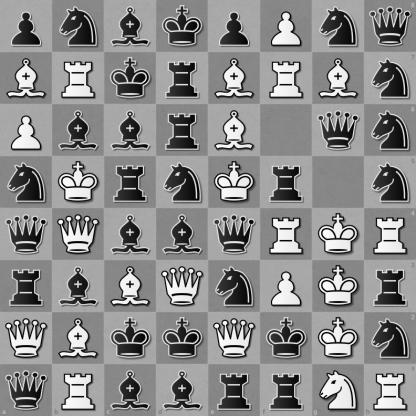B: (1, 53, 52, 104), (53, 313, 104, 364), (105, 261, 156, 312), (209, 53, 260, 104), (209, 105, 260, 156), (313, 53, 364, 104)
K: (53, 157, 104, 208), (209, 157, 260, 208), (313, 209, 364, 260), (313, 261, 364, 312), (313, 313, 364, 364)
N: (312, 364, 364, 416)
P: (1, 105, 52, 156), (261, 1, 312, 52), (261, 261, 312, 312)
Q: (1, 313, 52, 364), (53, 209, 104, 260), (157, 261, 208, 312), (209, 313, 260, 364)
R: (52, 364, 104, 416), (364, 364, 416, 416), (364, 209, 416, 260), (53, 53, 104, 104), (261, 53, 312, 104), (261, 209, 312, 260)
b: (156, 364, 209, 416), (104, 364, 156, 416), (53, 105, 104, 156), (53, 261, 104, 312), (105, 1, 156, 52), (105, 105, 156, 156), (105, 209, 156, 260), (157, 209, 208, 260)
board: (0, 0, 415, 415)
k: (105, 53, 156, 104), (105, 313, 156, 364), (157, 1, 208, 52), (157, 313, 208, 364), (261, 313, 312, 364)
n: (364, 156, 416, 209), (364, 52, 416, 104), (364, 104, 416, 156), (364, 312, 416, 364), (1, 157, 52, 208), (53, 1, 104, 52), (157, 157, 208, 208), (209, 261, 260, 312), (313, 1, 364, 52)
p: (1, 1, 52, 52), (209, 1, 260, 52)
q: (0, 364, 52, 416), (364, 0, 416, 52), (1, 209, 52, 260), (209, 209, 260, 260), (313, 105, 364, 156)
r: (260, 364, 312, 416), (364, 260, 416, 312), (209, 364, 260, 416), (1, 261, 52, 312), (105, 157, 156, 208), (157, 53, 208, 104), (157, 105, 208, 156), (261, 157, 312, 208)
